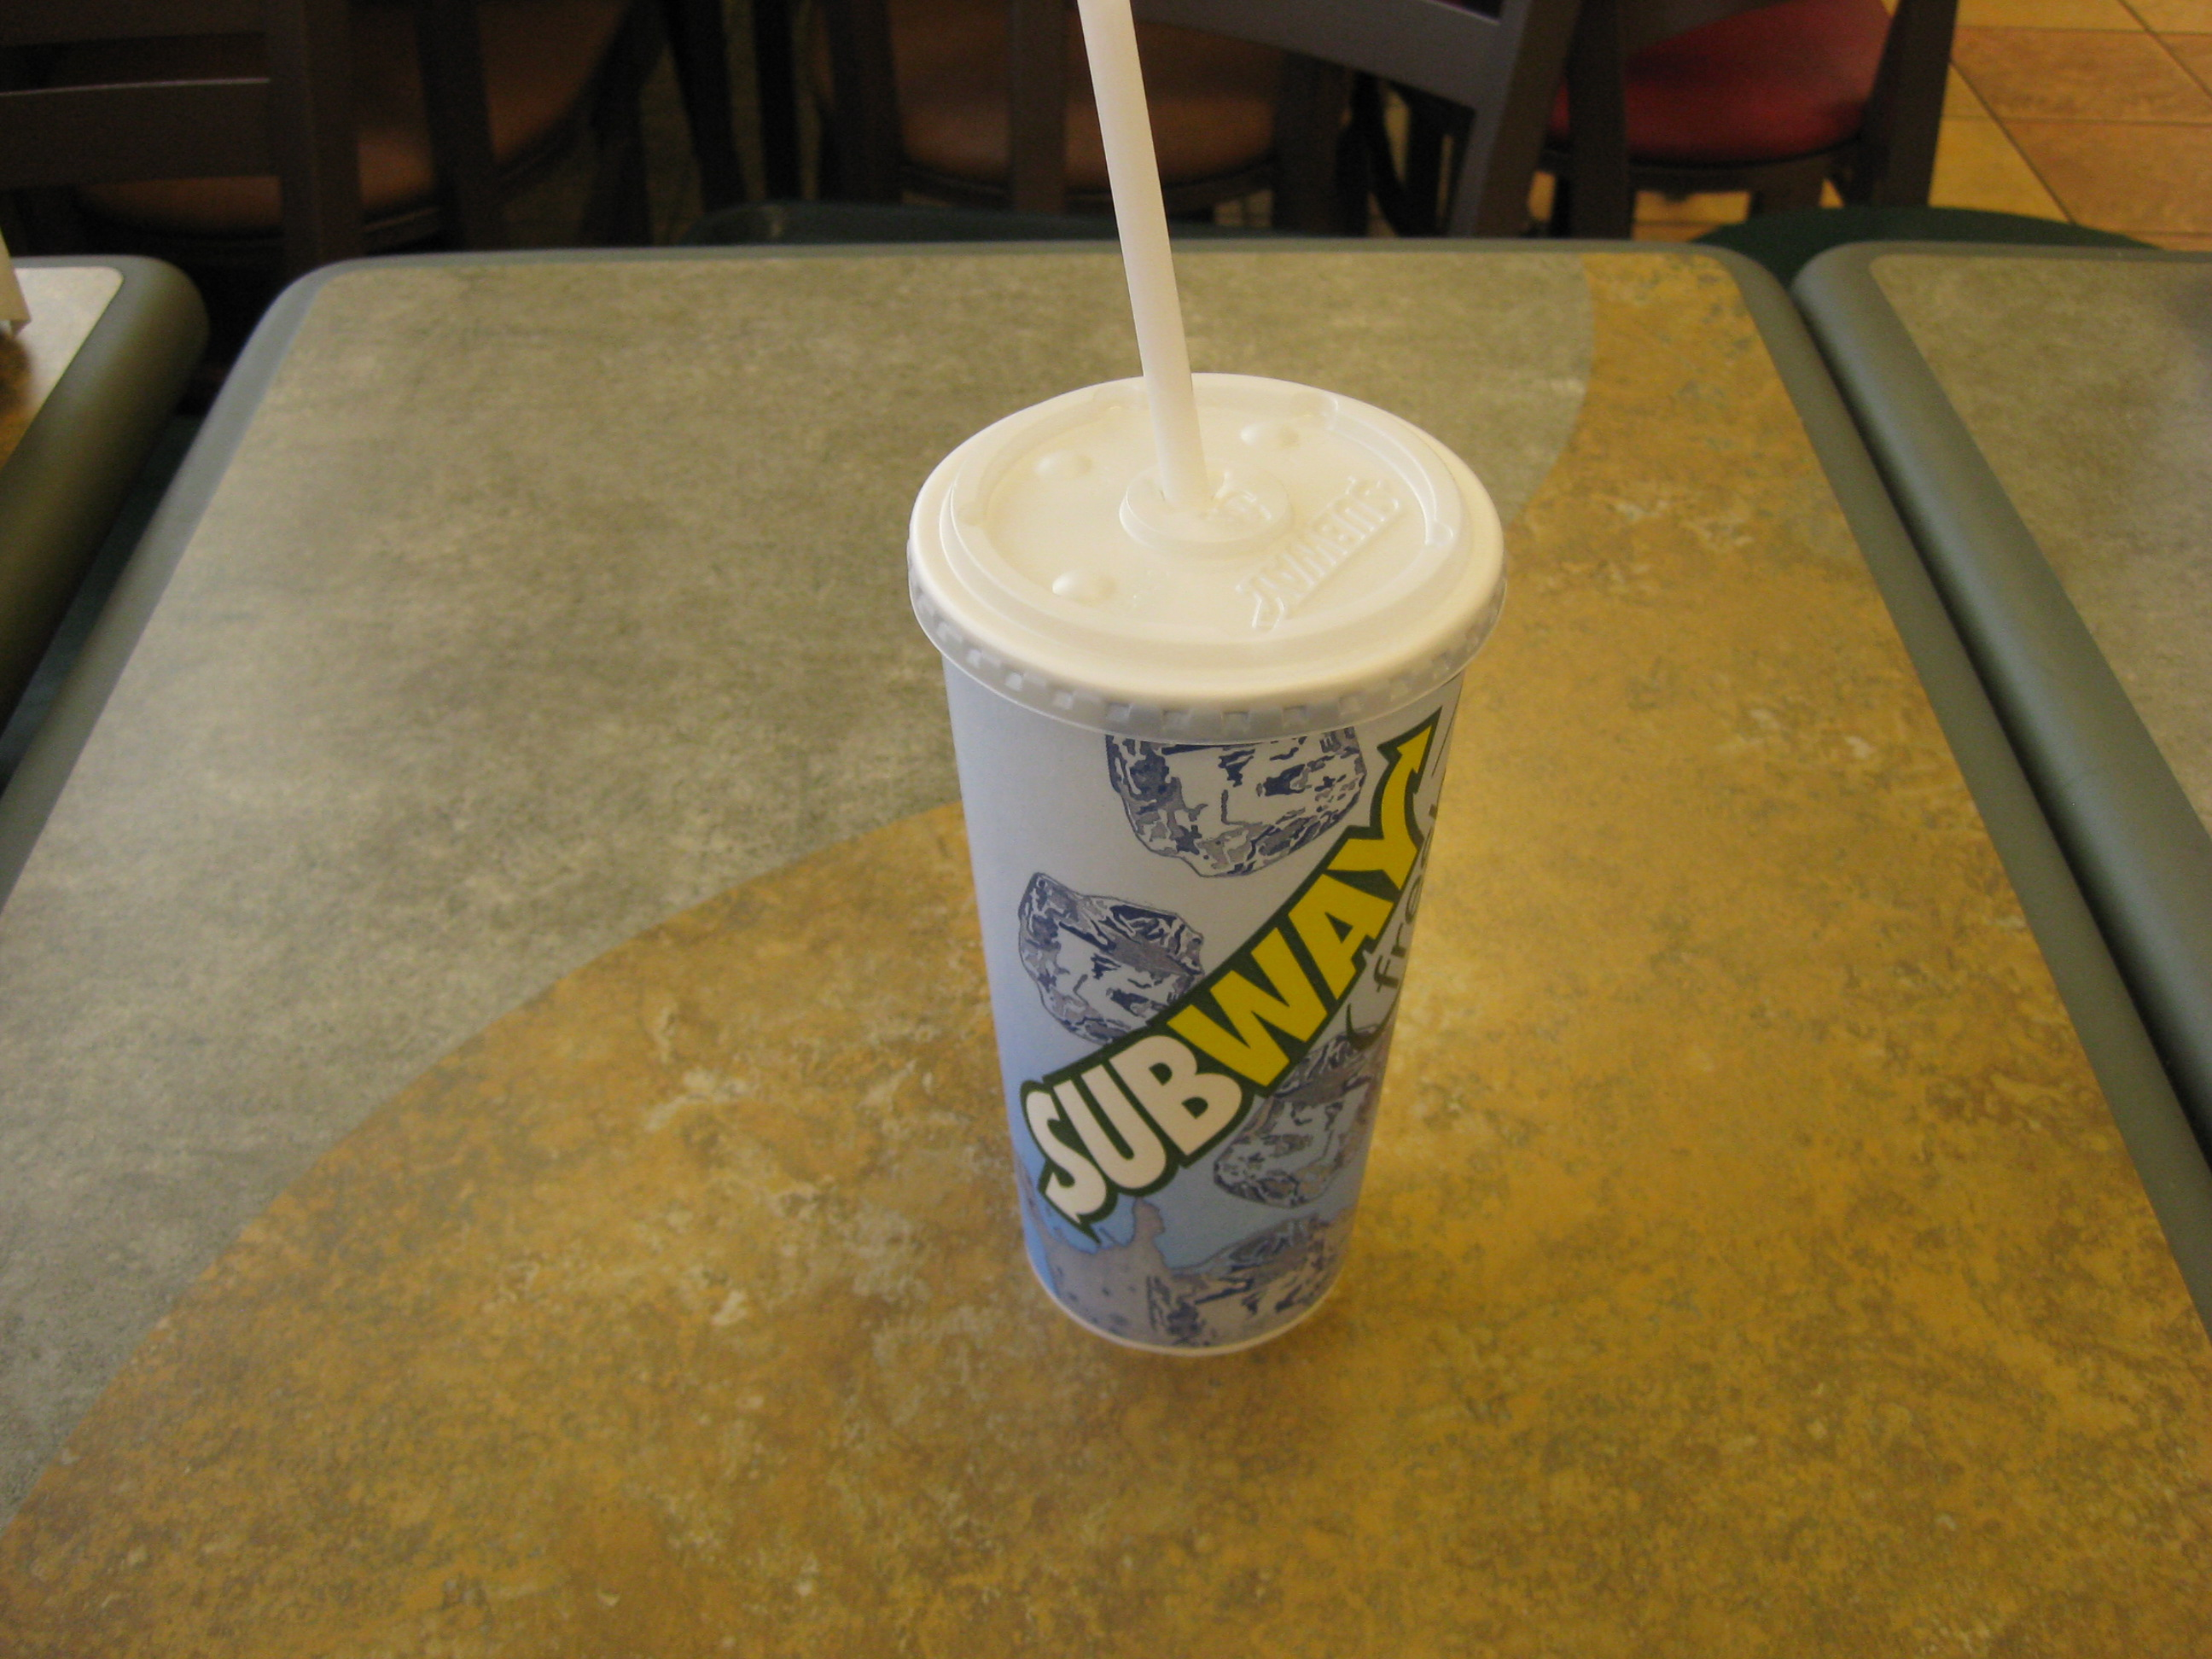drink: (894, 166, 1519, 1423)
